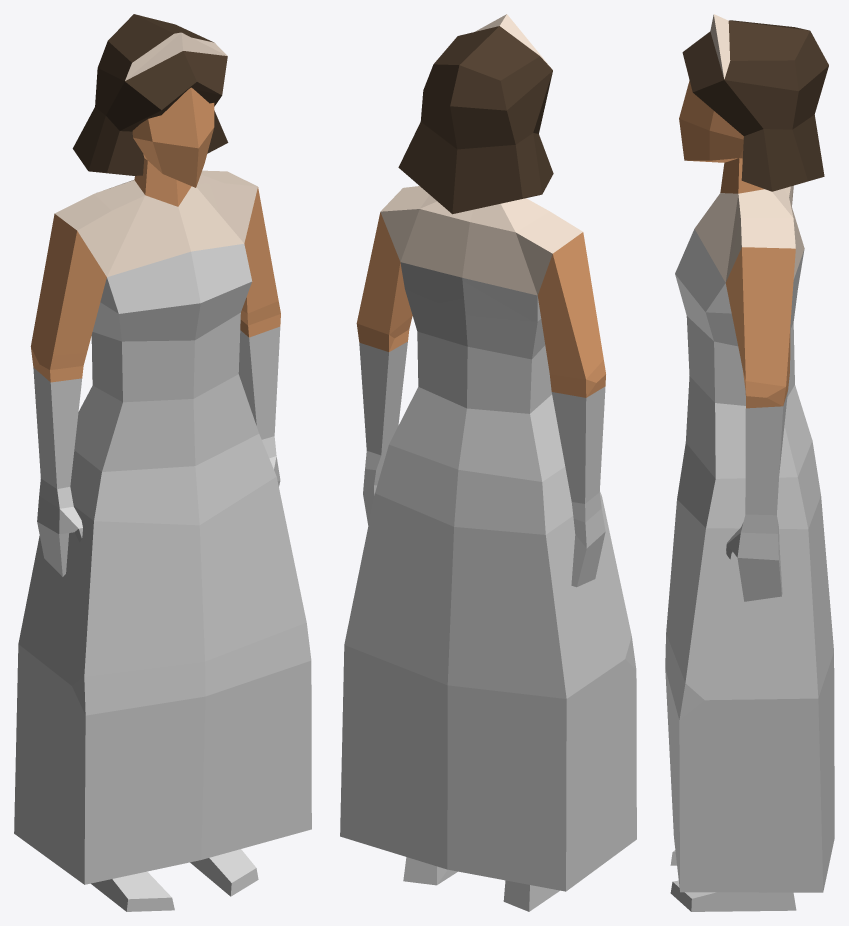
File: people_woman-wedding.fbx
The picture shows the model from 3 angles, left to right: view 1: azimuth 30°, elevation 25°; view 2: azimuth 150°, elevation 25°; view 3: azimuth 270°, elevation 25°; orthographic projection.
Visible parts, largest first — view 1: people_woman_wedding; view 2: people_woman_wedding; view 3: people_woman_wedding.
Part boxes in pixels (x1,y1,x2,y2): people_woman_wedding: [14, 14, 311, 911]; people_woman_wedding: [340, 14, 636, 911]; people_woman_wedding: [665, 14, 834, 911].
Bounding box in the file's own units: 56.57 × 200 × 35.4.
